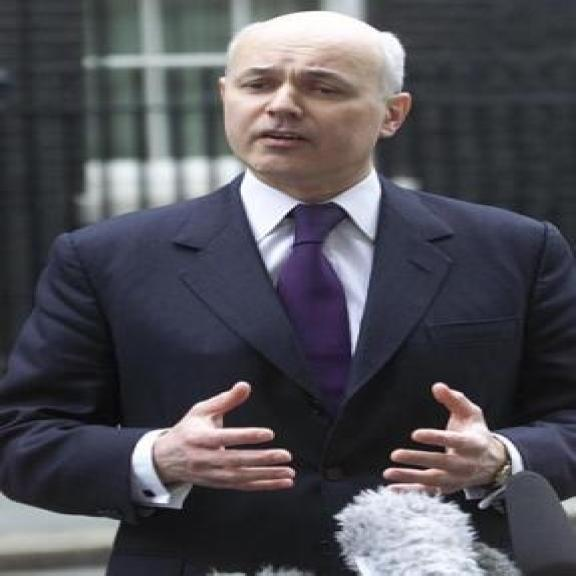face: (216, 37, 413, 187)
